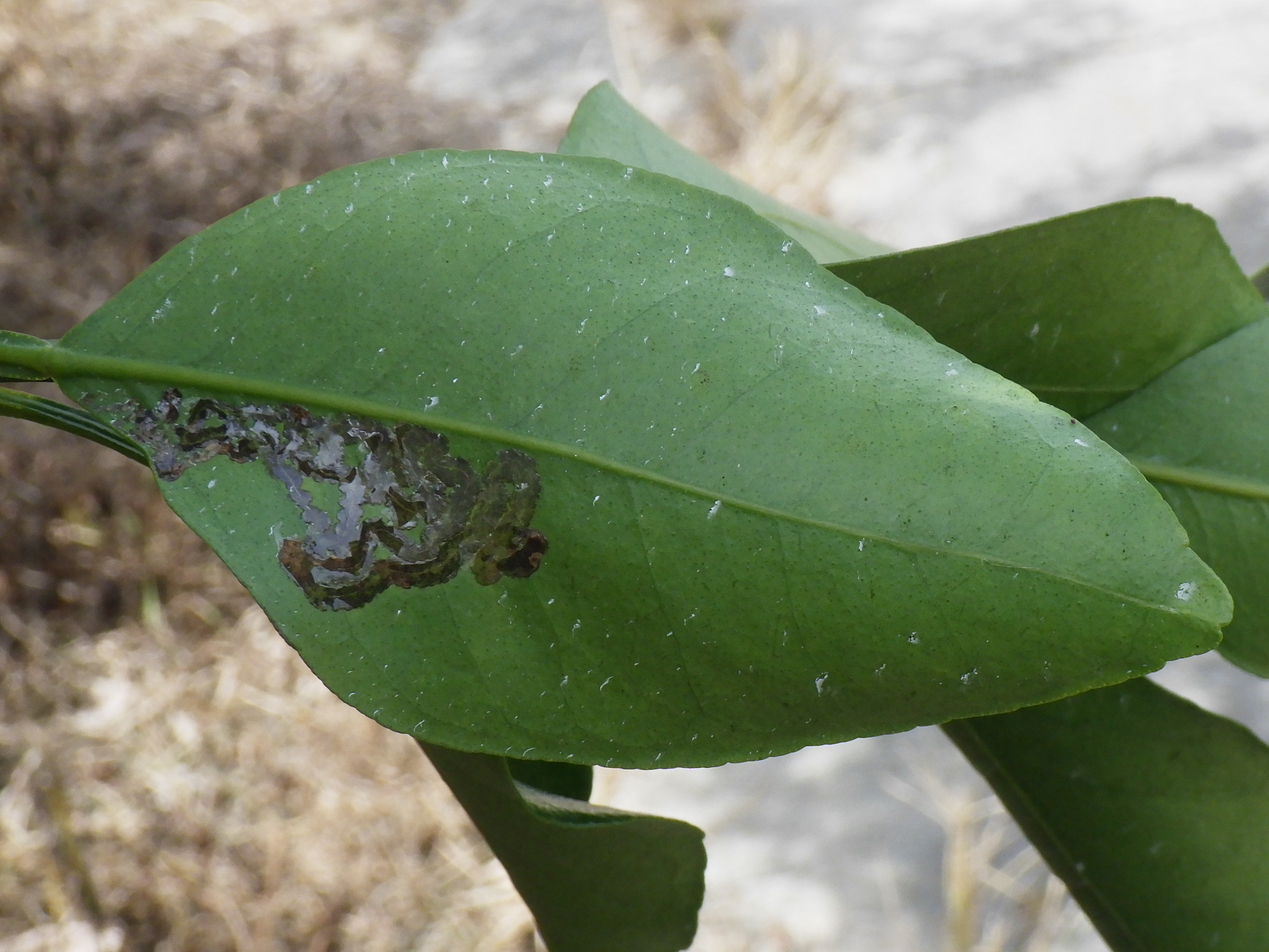Citrus_Leaf_Miner: (134, 388, 548, 610)
